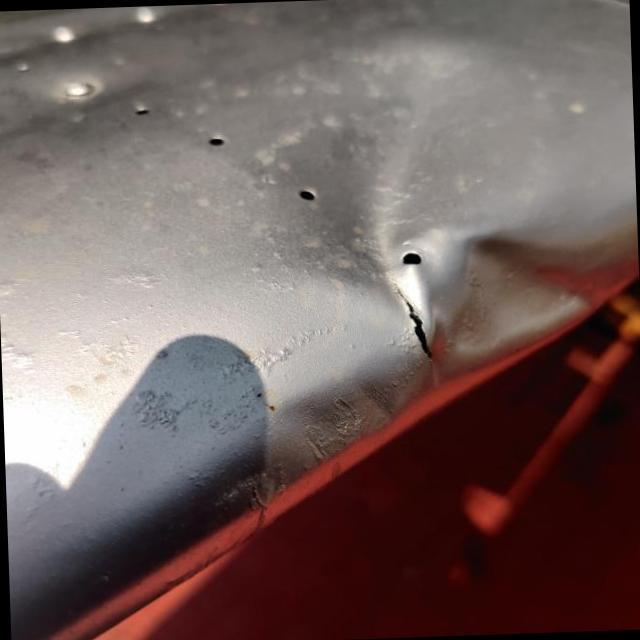Dent: (389, 183, 640, 387), (264, 72, 460, 318)
Rupture: (375, 269, 446, 385)
